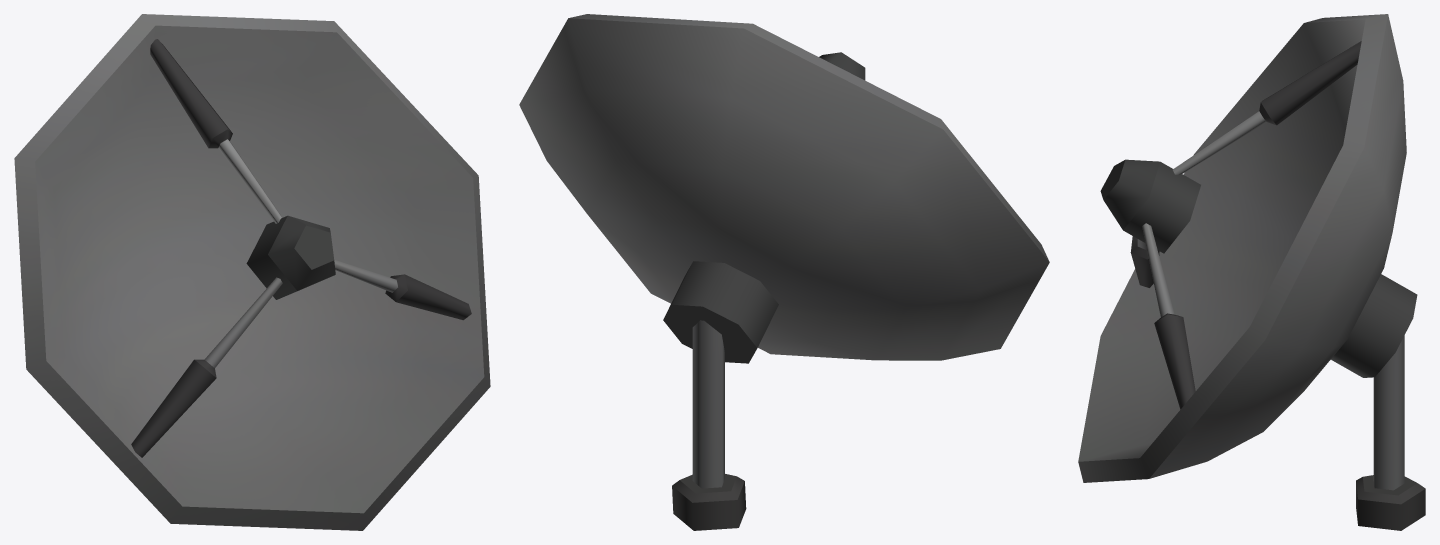
File: Antene_2_A_1.fbx
3 renders of one model, left to right at view 1: azimuth 30°, elevation 25°; view 2: azimuth 150°, elevation 25°; view 3: azimuth 270°, elevation 25°, orthographic. The views are drawn at different scales.
Parts seen in each view (by area): view 1: Antene_2_A_1; view 2: Antene_2_A_1, Antene_2_A_1h; view 3: Antene_2_A_1, Antene_2_A_1h.
Part boxes in pixels (left/top/right/bottom): Antene_2_A_1: left=14, top=14, right=490, bottom=530; Antene_2_A_1: left=519, top=14, right=1049, bottom=363; Antene_2_A_1h: left=672, top=320, right=746, bottom=530; Antene_2_A_1: left=1078, top=14, right=1417, bottom=482; Antene_2_A_1h: left=1356, top=335, right=1425, bottom=530.
Size of the model in its own units: 1.42 by 1.34 by 0.8686.
